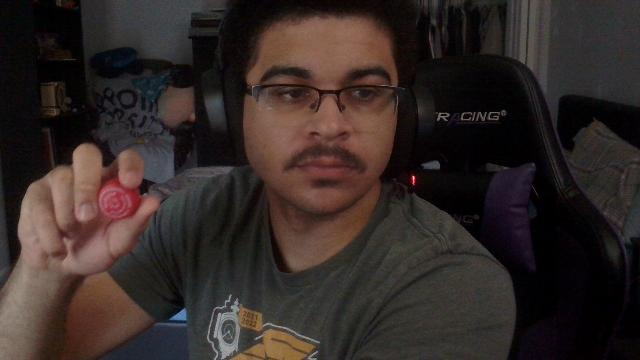cap: (98, 178, 140, 220)
